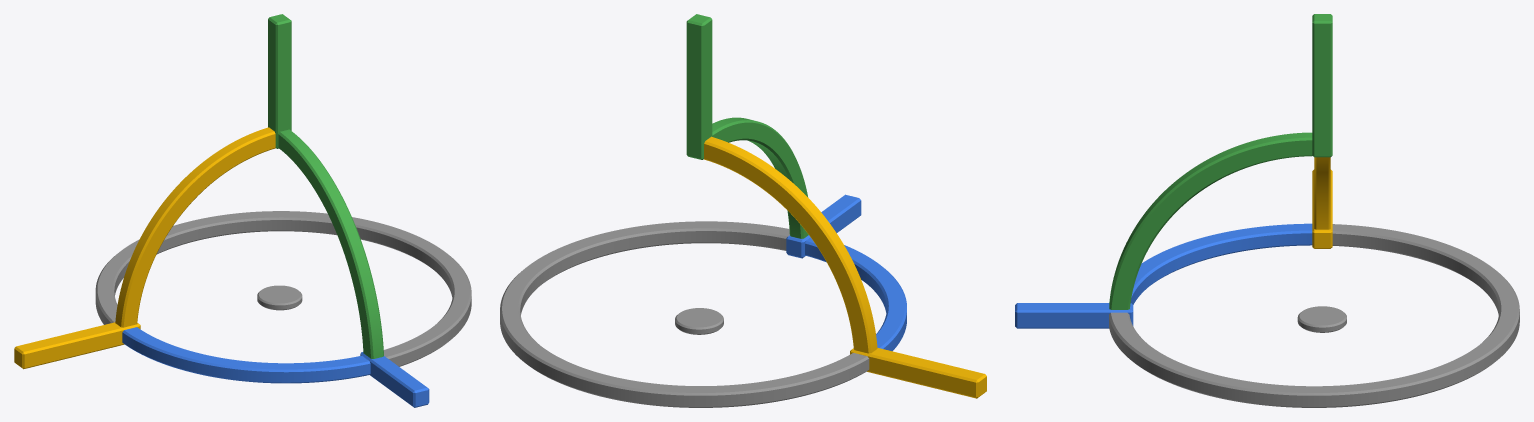
The model's file is CloudAnchorMarker.fbx.
The picture shows the model from 3 angles, left to right: view 1: azimuth 30°, elevation 25°; view 2: azimuth 150°, elevation 25°; view 3: azimuth 270°, elevation 25°; orthographic projection. The views are drawn at different scales.
Visible parts, largest first — view 1: Cloud_anchor; view 2: Cloud_anchor; view 3: Cloud_anchor.
Part boxes in pixels (x1=…): Cloud_anchor: x1=14, y1=14, x2=471, y2=407; Cloud_anchor: x1=500, y1=14, x2=986, y2=407; Cloud_anchor: x1=1015, y1=14, x2=1519, y2=407.
Bounding box in the file's own units: 16.34 × 10.48 × 15.59.
